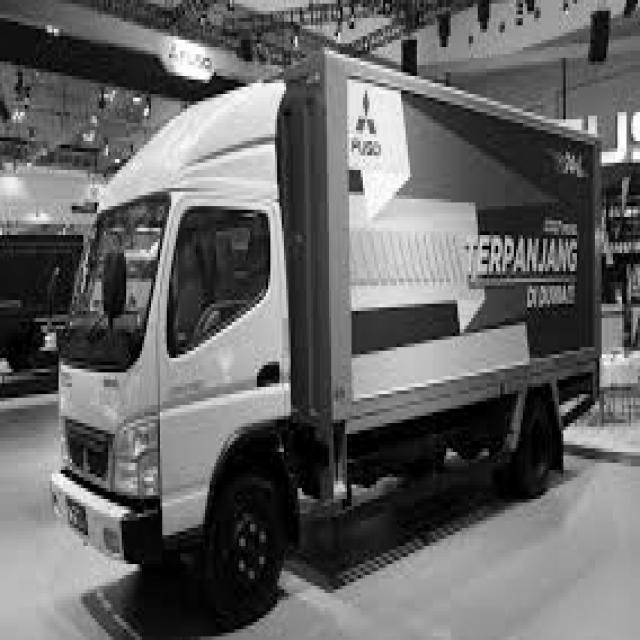truck: (46, 60, 335, 627)
